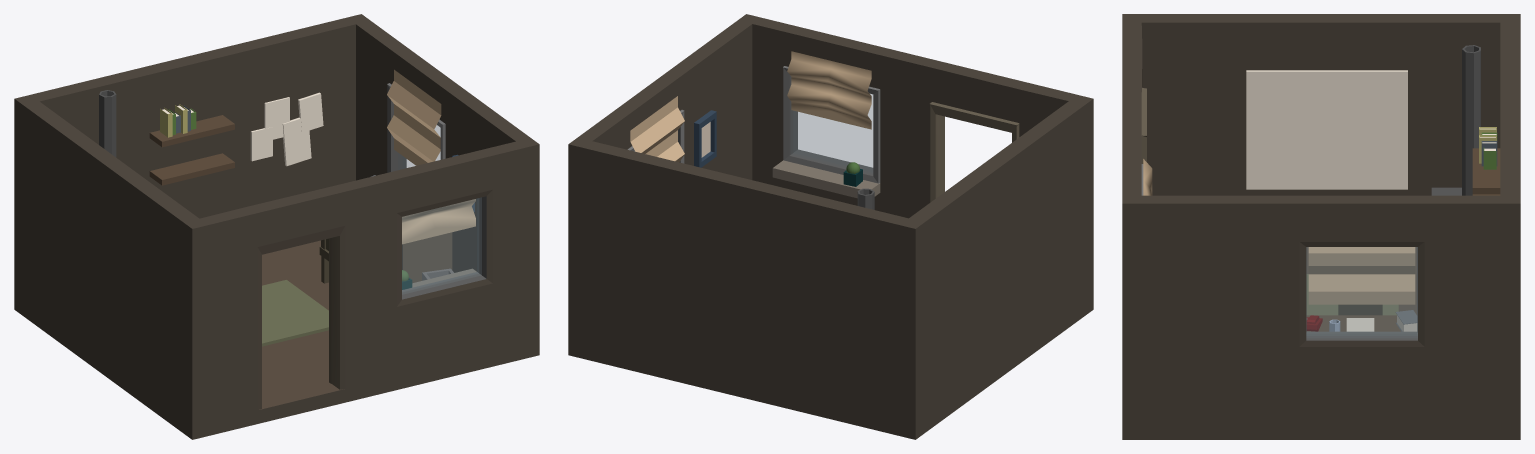
Rendered from Inhouse.fbx.
3 views of the same model, side by side, from view 1: azimuth 30°, elevation 25°; view 2: azimuth 150°, elevation 25°; view 3: azimuth 270°, elevation 25° (orthographic). The views are drawn at different scales.
Visible parts, largest first — view 1: InHouse1:pCube22, polySurface50; view 2: InHouse1:pCube22, polySurface50; view 3: InHouse1:pCube22, polySurface50.
Part boxes in pixels (x1,y1,x2,y2): InHouse1:pCube22: [14, 14, 516, 422]; polySurface50: [169, 127, 539, 439]; InHouse1:pCube22: [568, 31, 1070, 439]; polySurface50: [724, 14, 1093, 325]; InHouse1:pCube22: [1173, 14, 1520, 439]; polySurface50: [1122, 14, 1173, 439].
Bounding box in the file's own units: 146 × 86.2 × 130.
